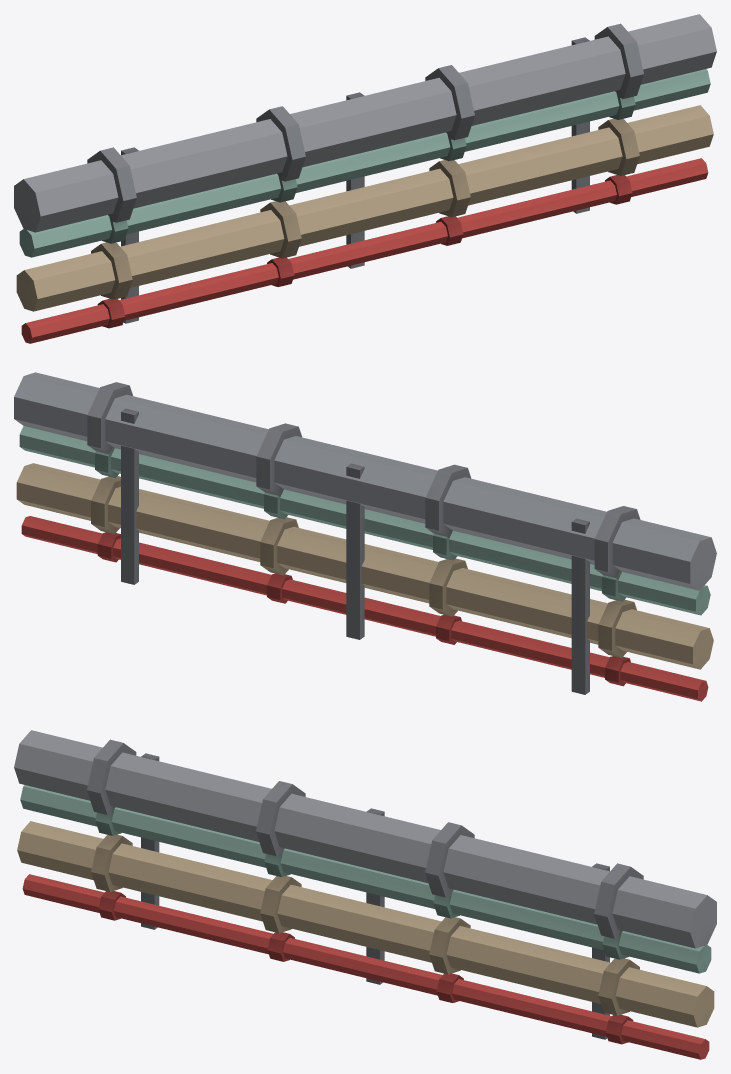
The model's file is hub_pipes.glb.
The picture shows the model from 3 angles, top to bottom: view 1: azimuth 30°, elevation 25°; view 2: azimuth 150°, elevation 25°; view 3: azimuth 330°, elevation 25°; orthographic projection.
Visible parts, largest first — view 1: hub_pipes; view 2: hub_pipes; view 3: hub_pipes.
Boxes of the visible parts, bbox=[...] form: hub_pipes: bbox=[14, 14, 716, 343]; hub_pipes: bbox=[14, 372, 716, 701]; hub_pipes: bbox=[14, 730, 716, 1059].
Bounding box in the file's own units: 5 × 1.29 × 0.4619.
